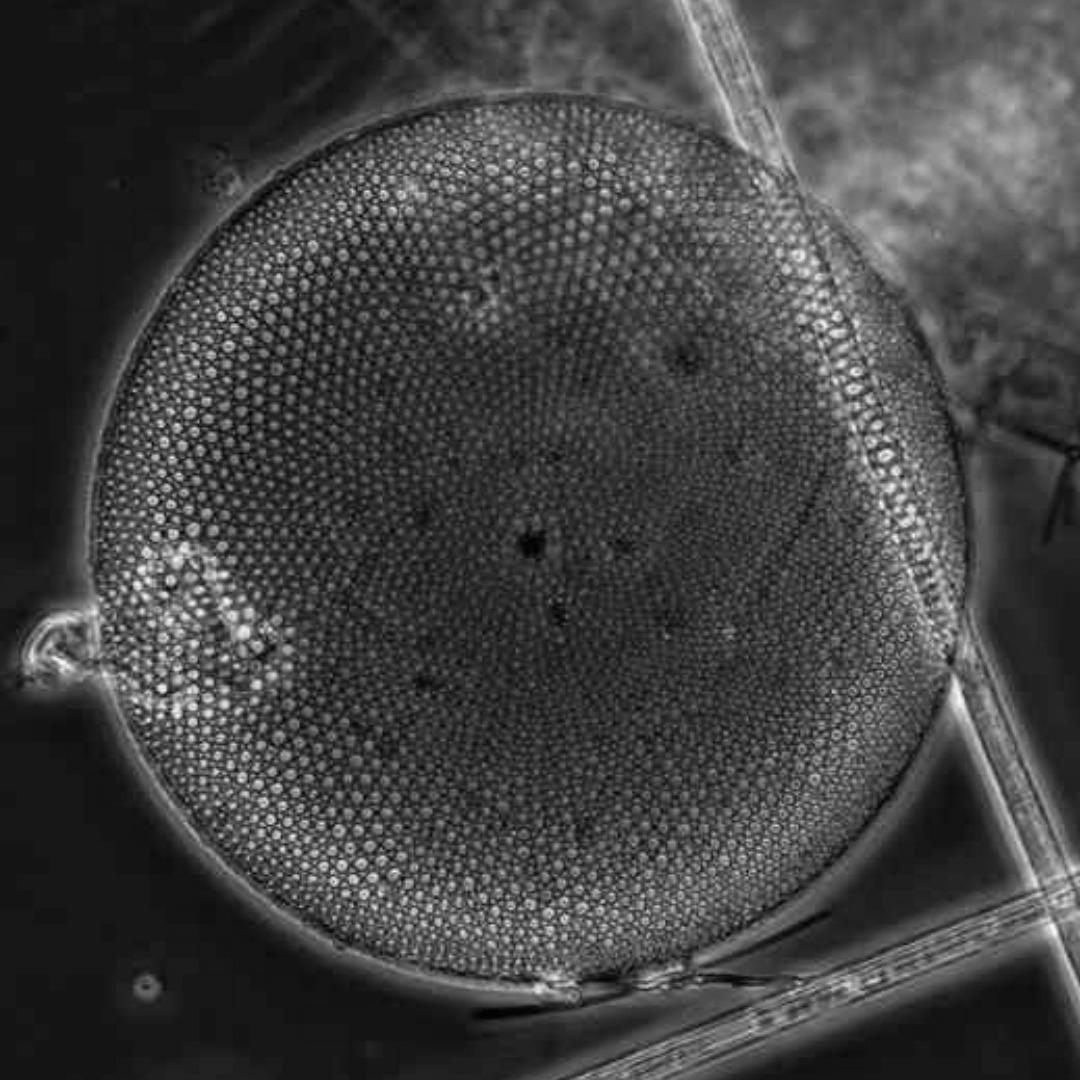coscinodiscus_oculus_iridis: (90, 88, 975, 992)
